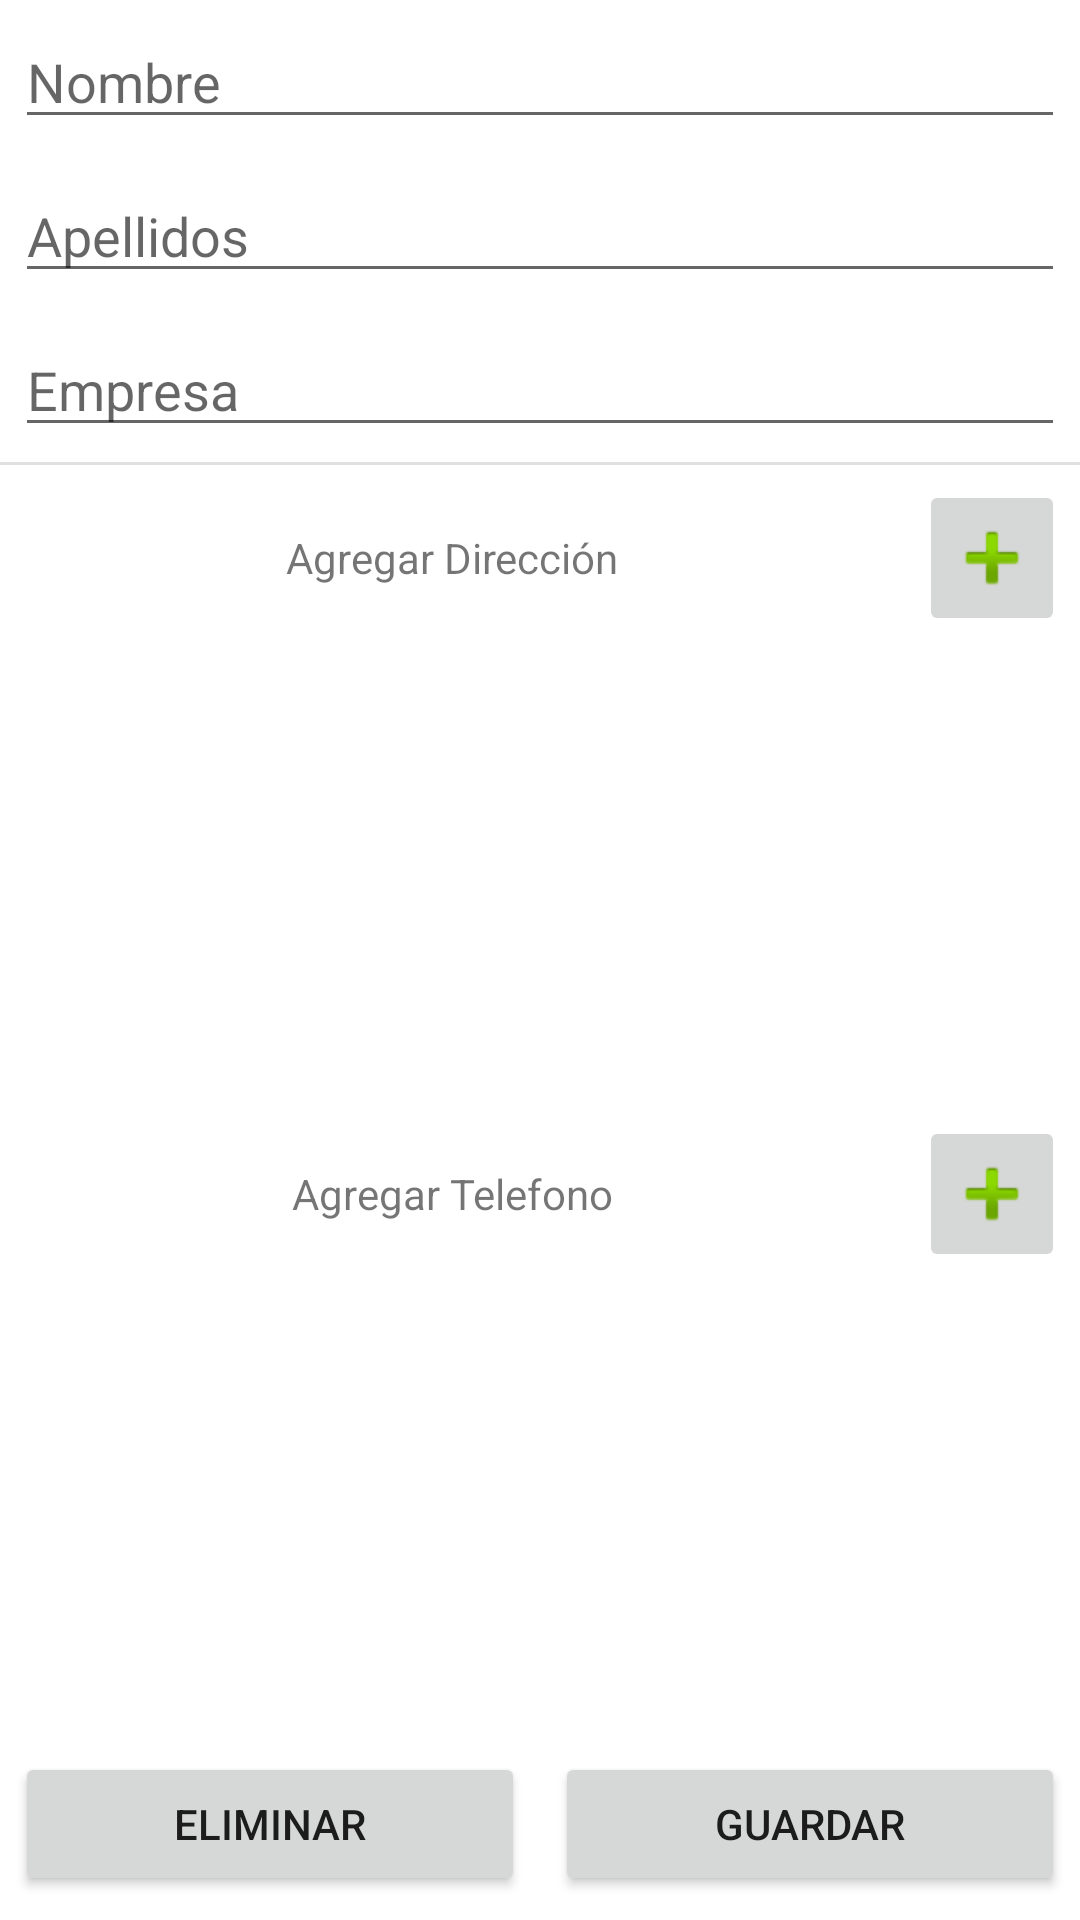

Named icons in this screenshot (1080*1920) and their centers, [x,y]:
add: [992,558], [992,1194]
